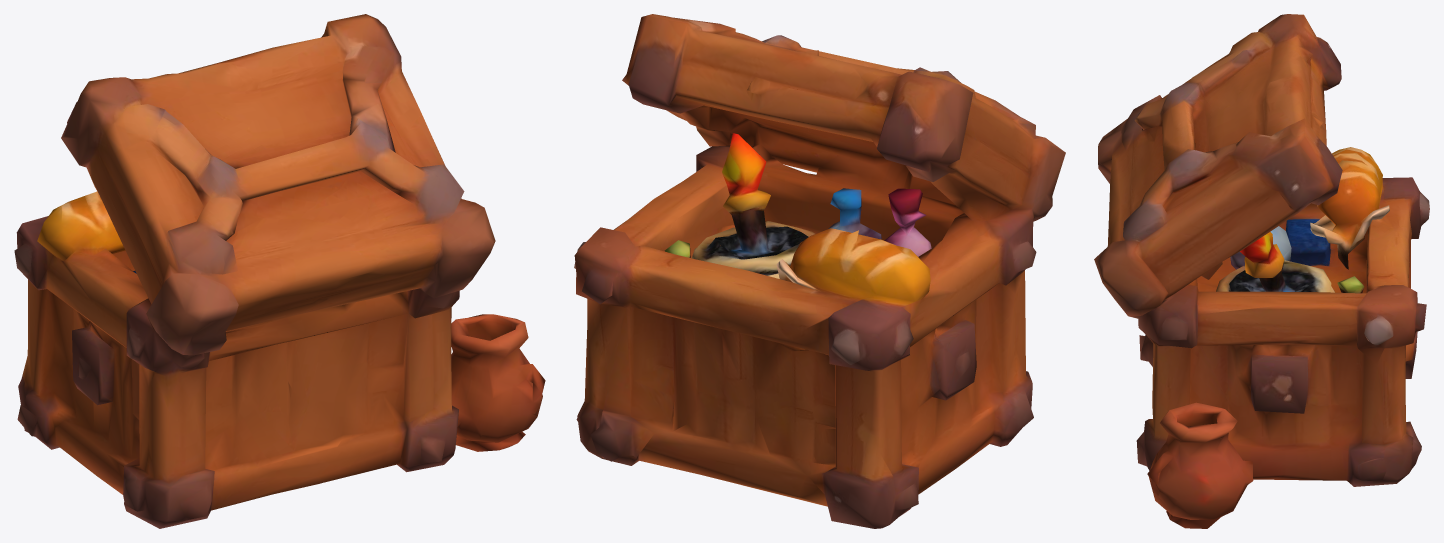
The model's file is supply_crate_open-B_D1zW29.glb.
3 renders of one model, left to right at view 1: azimuth 30°, elevation 25°; view 2: azimuth 150°, elevation 25°; view 3: azimuth 270°, elevation 25°, orthographic. The views are drawn at different scales.
Parts seen in each view (by area): view 1: tripo_node_41381bbd-0eed-45ff-a00a-3219b5a934d5; view 2: tripo_node_41381bbd-0eed-45ff-a00a-3219b5a934d5; view 3: tripo_node_41381bbd-0eed-45ff-a00a-3219b5a934d5.
Boxes of the visible parts, left/top/right/bottom form: tripo_node_41381bbd-0eed-45ff-a00a-3219b5a934d5: left=14, top=14, right=545, bottom=528; tripo_node_41381bbd-0eed-45ff-a00a-3219b5a934d5: left=574, top=14, right=1065, bottom=528; tripo_node_41381bbd-0eed-45ff-a00a-3219b5a934d5: left=1094, top=14, right=1429, bottom=528.
Size of the model in its own units: 1 by 0.9158 by 0.7863.
Materials: 1 (1 with a texture image).
